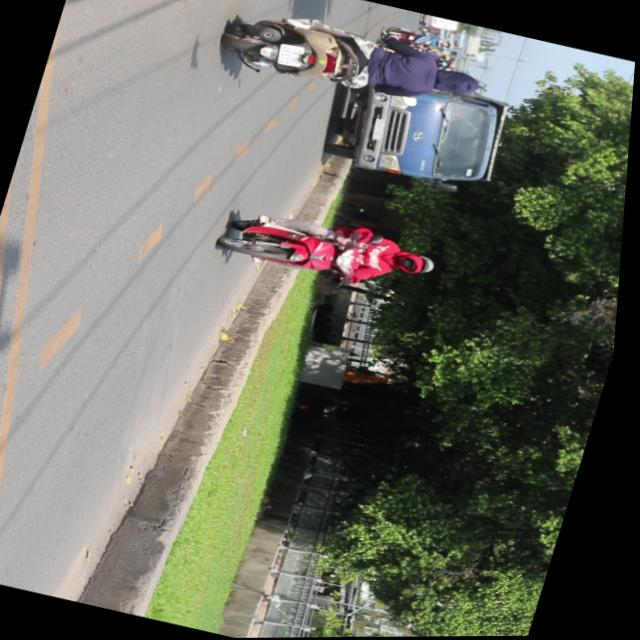helmet: (433, 66, 485, 101), (397, 248, 442, 280)
licenseplate: (210, 0, 493, 126), (214, 194, 449, 307)
nohelmet: (275, 41, 308, 68)
